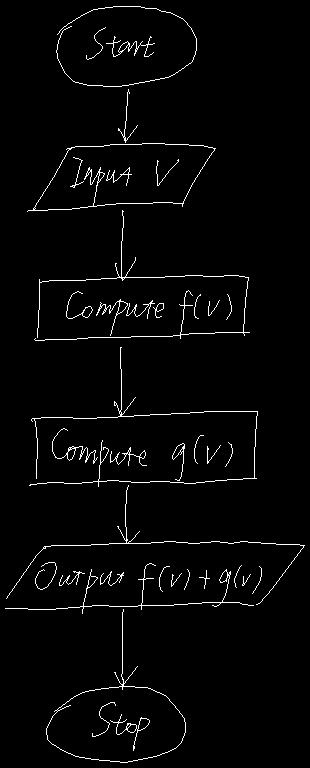arrow: (114, 609, 137, 689), (114, 347, 135, 415), (115, 210, 135, 280), (117, 485, 139, 543), (118, 89, 137, 142)
data: (5, 541, 304, 609), (27, 143, 215, 211)
process: (29, 411, 257, 485), (34, 275, 249, 340)
terminator: (56, 6, 196, 86), (46, 686, 185, 762)
text: (35, 562, 261, 613), (52, 428, 232, 486), (66, 290, 231, 338), (70, 157, 178, 205), (92, 702, 149, 750), (86, 27, 154, 59)
